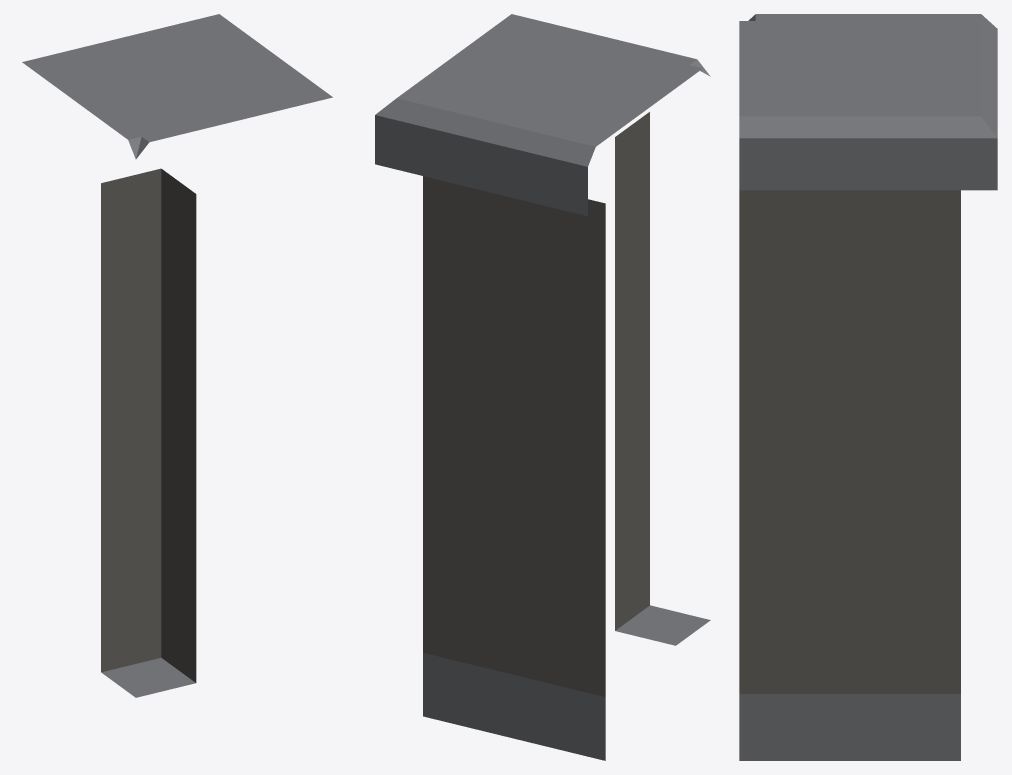
Rendered from SM_Roof_Pillar_In.gltf.
3 views of the same model, side by side, from view 1: azimuth 30°, elevation 25°; view 2: azimuth 150°, elevation 25°; view 3: azimuth 270°, elevation 25° (orthographic). The views are drawn at different scales.
Parts seen in each view (by area): view 1: SM_Roof_Pillar_In; view 2: SM_Roof_Pillar_In; view 3: SM_Roof_Pillar_In.
Part boxes in pixels (x1=…): SM_Roof_Pillar_In: x1=22, y1=14, x2=332, y2=697; SM_Roof_Pillar_In: x1=375, y1=14, x2=710, y2=760; SM_Roof_Pillar_In: x1=739, y1=14, x2=997, y2=760.
Bounding box in the file's own units: 0.35 × 0.9755 × 0.35.
Materials: 1 (1 with a texture image).
